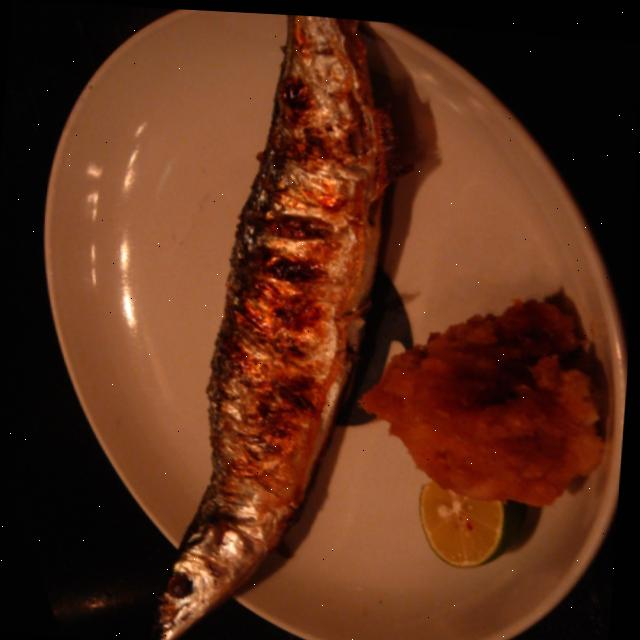熟制海鲜: (125, 6, 416, 640)
